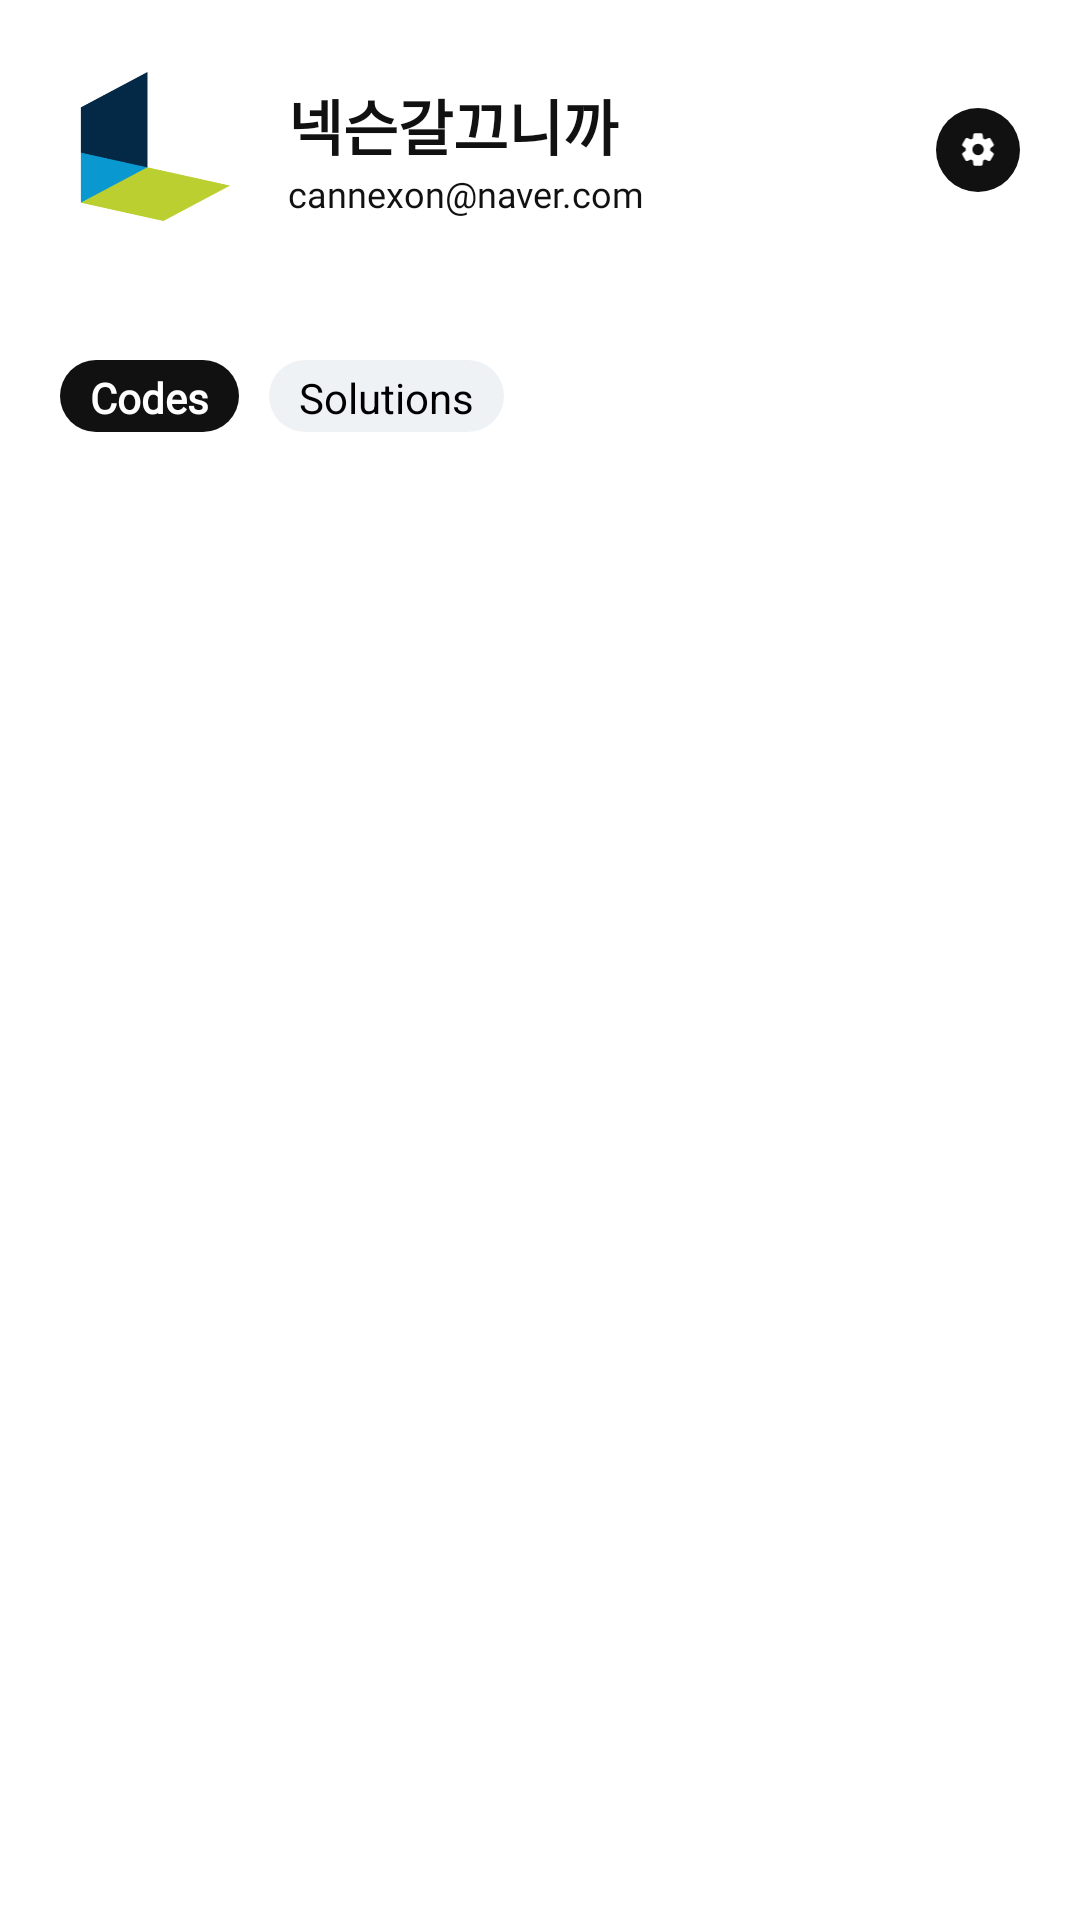

Icon click points for this 1080*1920 phone screenshot, format point (x, y):
settings: point (978, 149)
